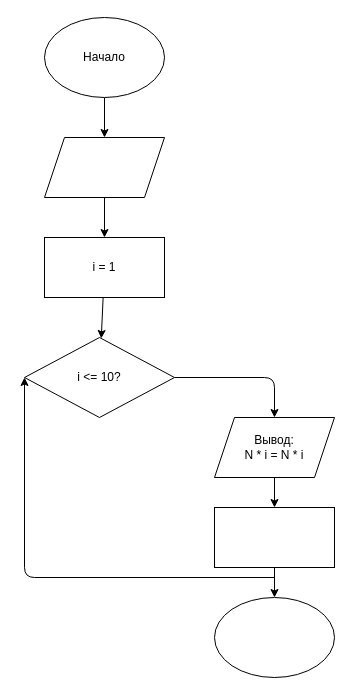
This 352x695 diagram has some shape labels left out. Here are the shapes that lost their labels. From the top down, the centre of each, then its label:
At (104,167): "Ввод числа N".
At (274,537): "i = i +1".
